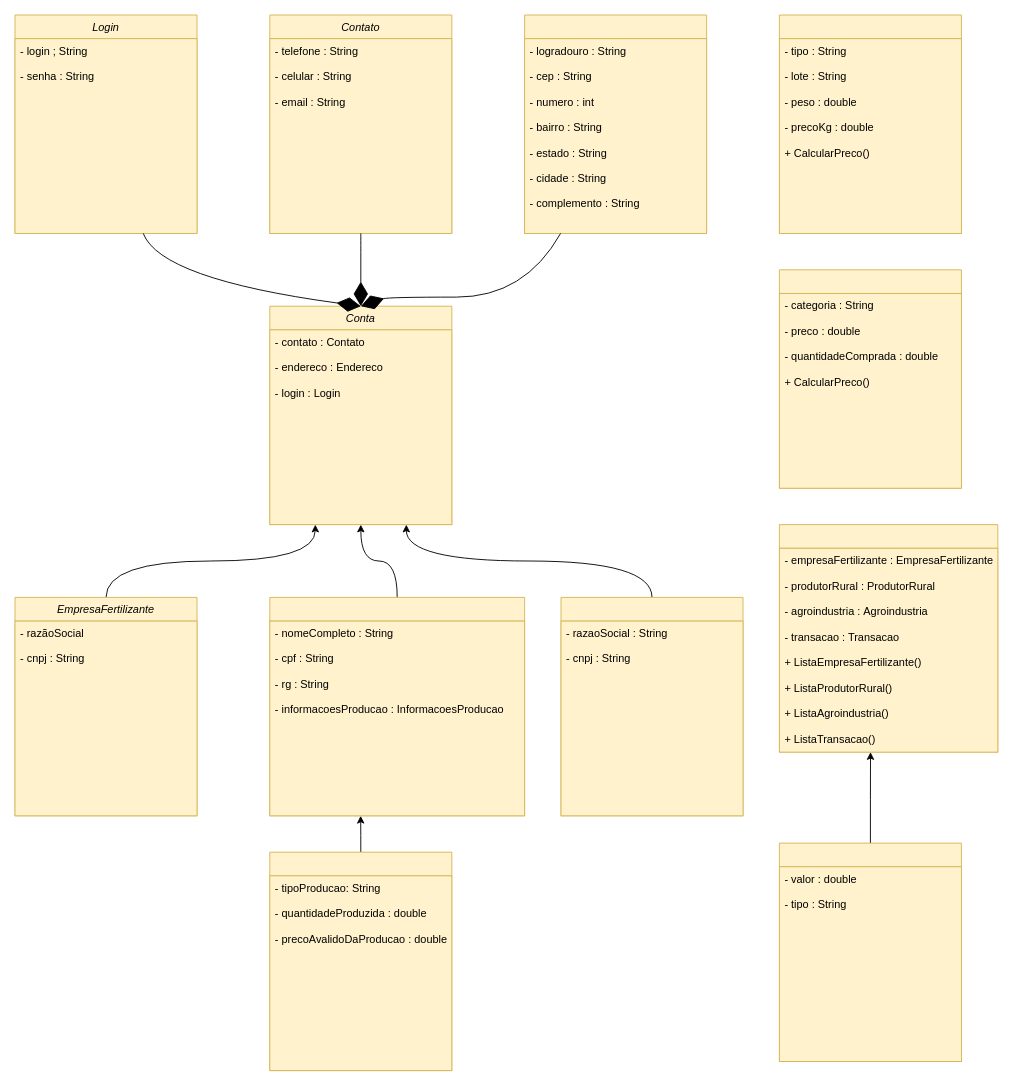
The diagram is 1013 pixels wide and 1086 high, and some of its shapes have lost their labels. Here are the shapes that lost their labels. From the top down, the box of each, then its label:
(524, 14, 707, 233): Endereco
(779, 14, 961, 233): CadastroResiduos
(779, 269, 961, 488): CategoriaInsumo
(779, 524, 998, 752): Raiz
(269, 597, 525, 816): ProdutorRural
(560, 597, 743, 816): Agroindustria
(269, 851, 452, 1071): InformacoesProducao
(779, 842, 961, 1062): Transacao
